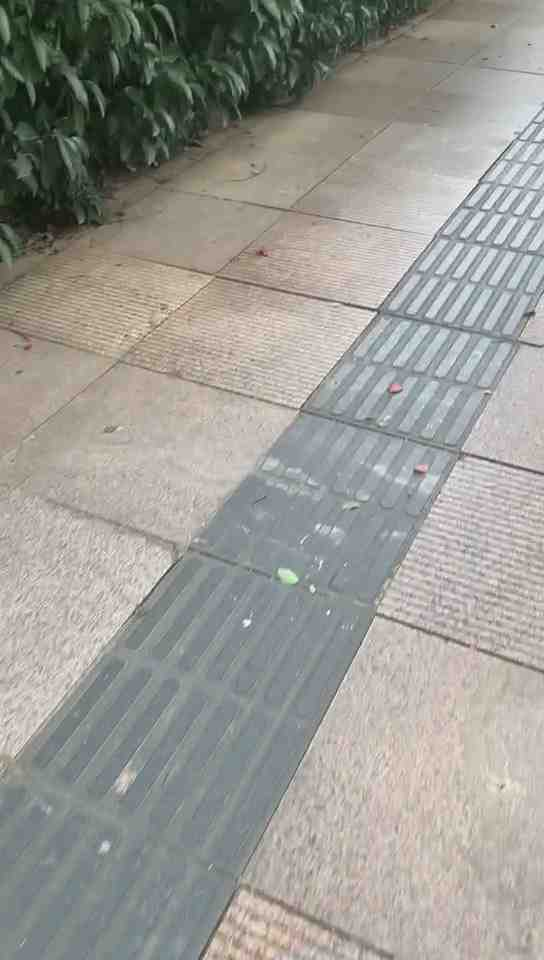leaf: (273, 563, 302, 592), (381, 377, 406, 396), (409, 459, 431, 478)
